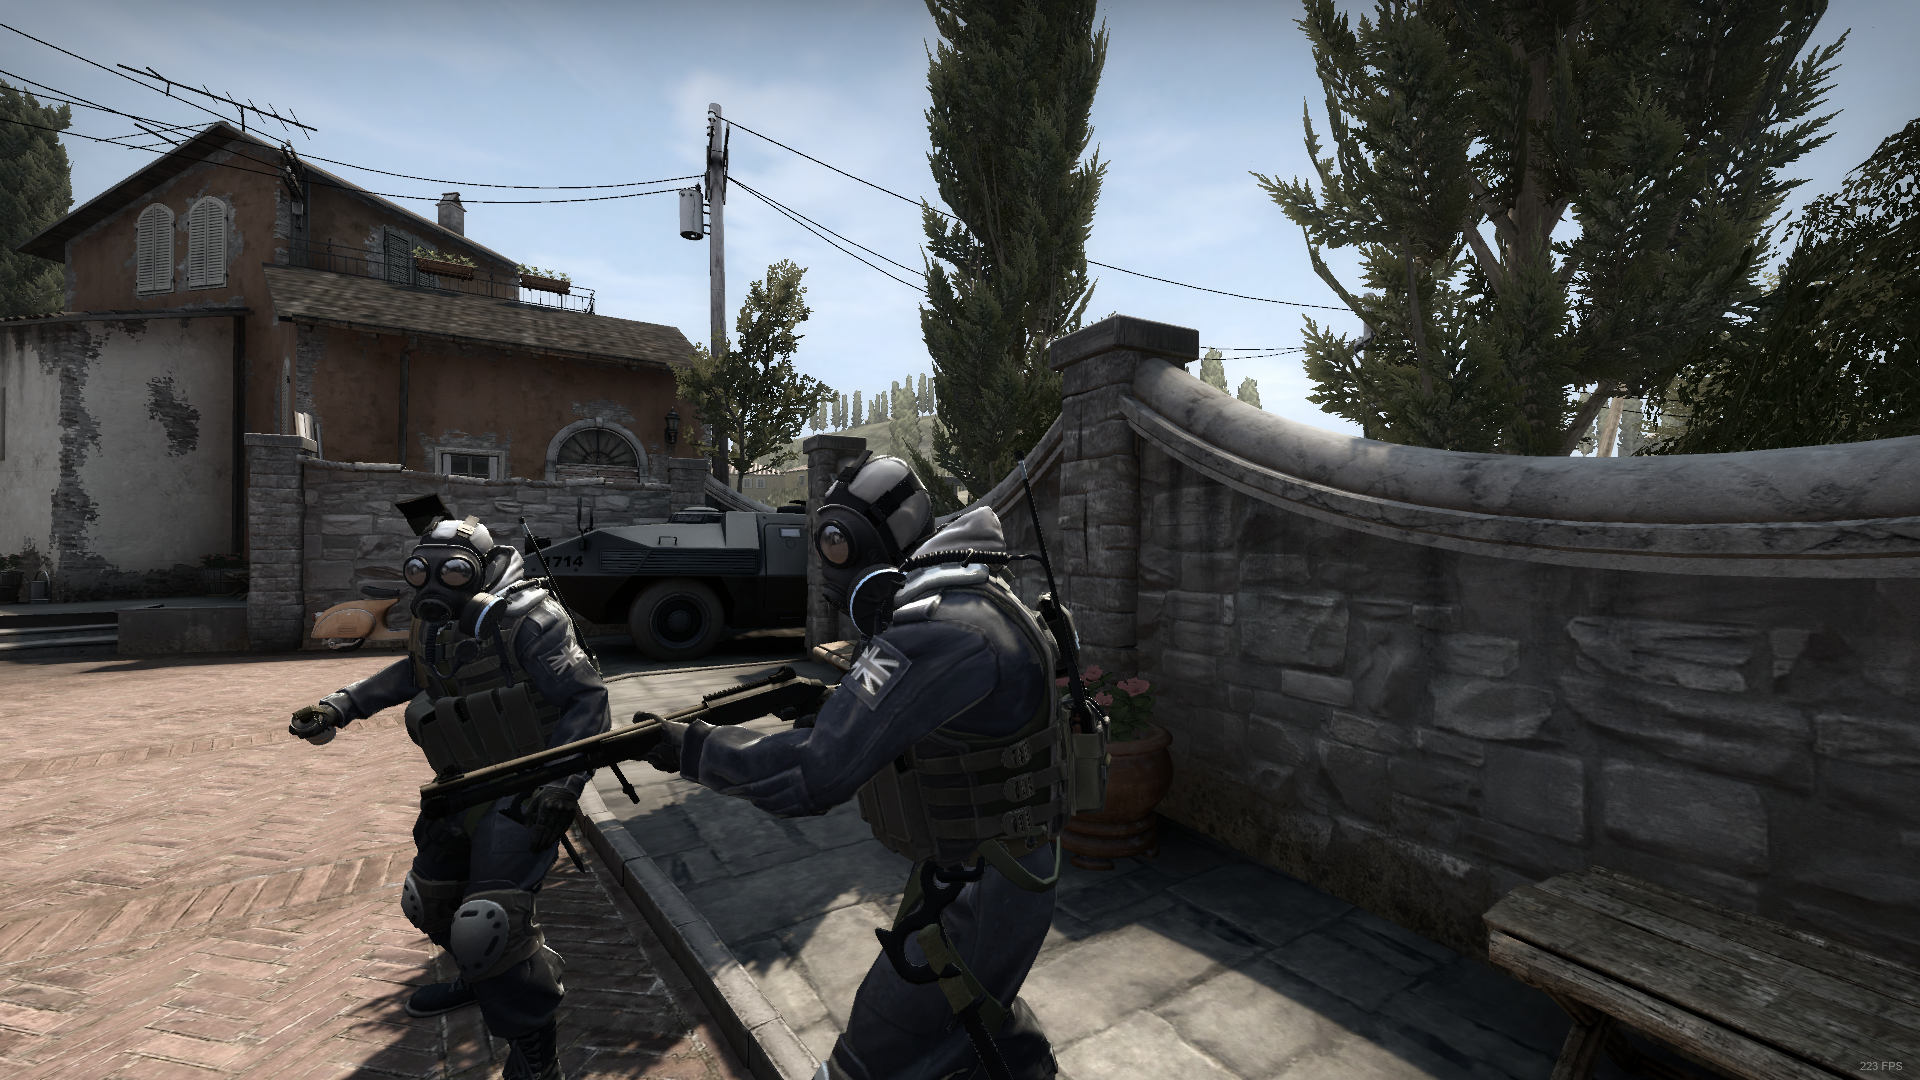ct: (642, 456, 1112, 1080), (291, 513, 613, 1080)
